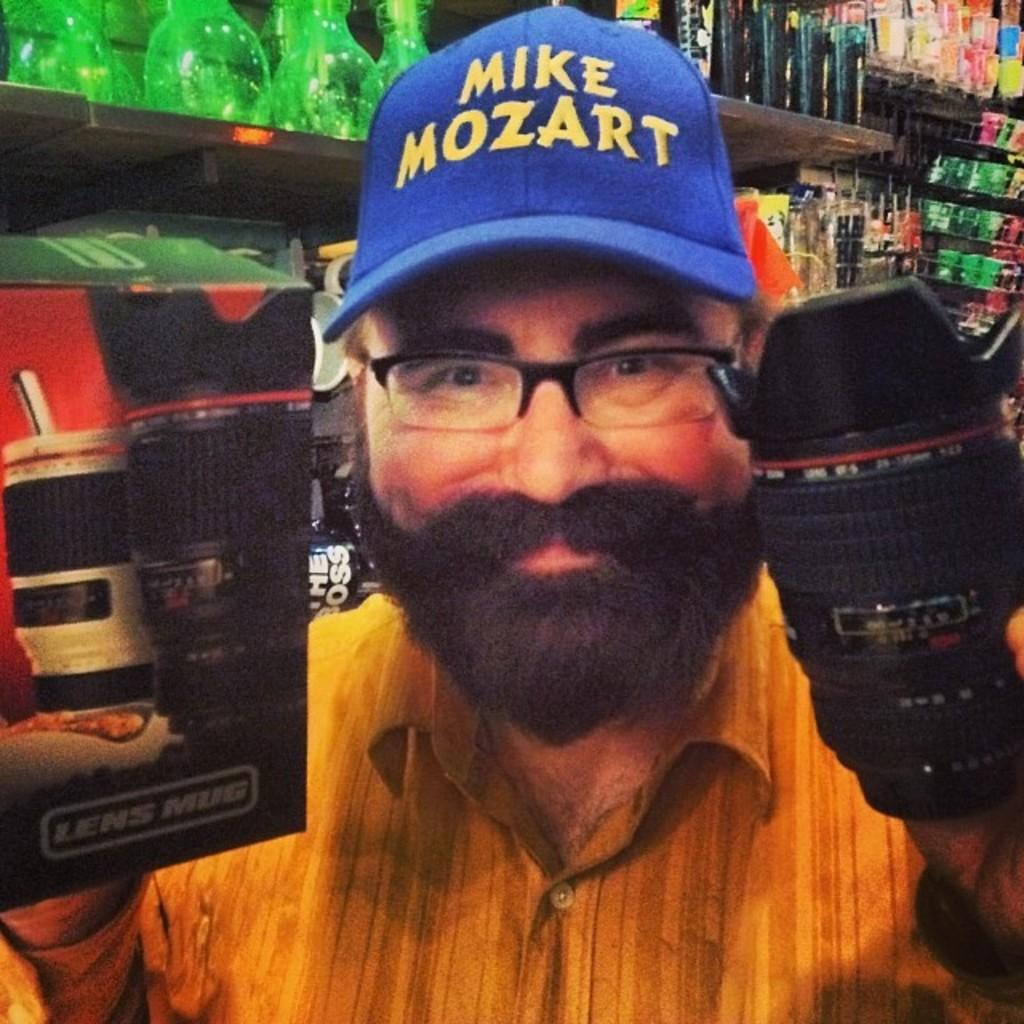Hat: (317, 4, 755, 338)
